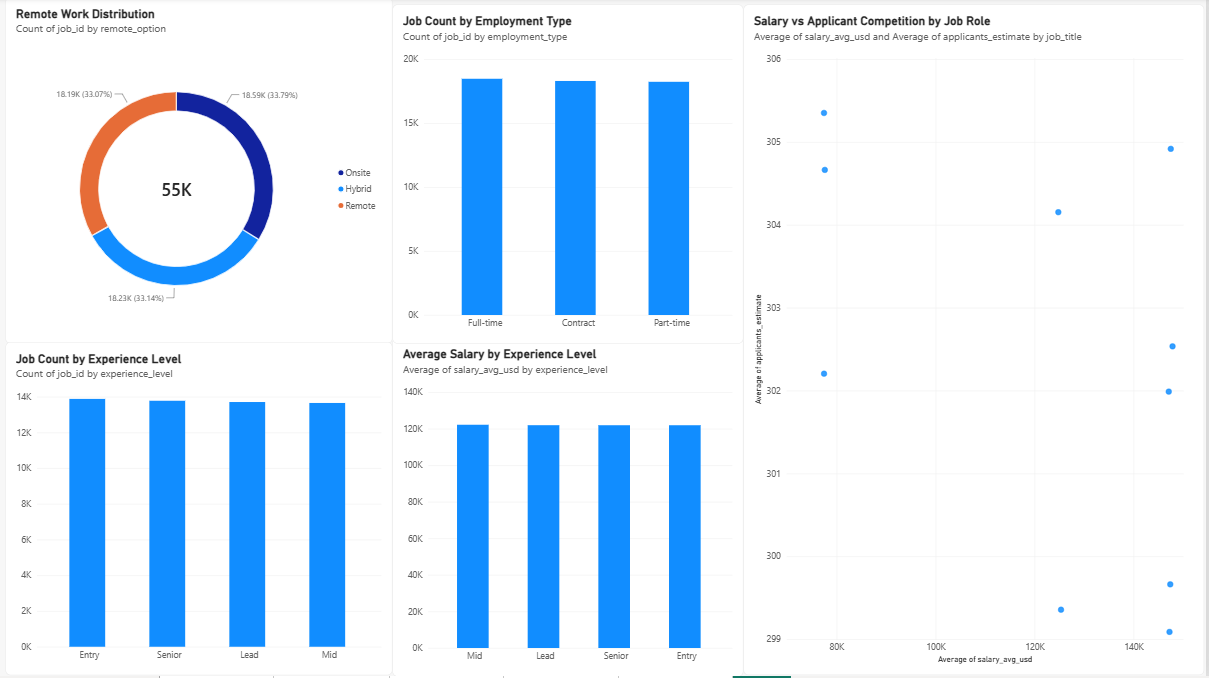

Layout of this report page (visuals, bound fields, positions):
{"tool":"powerbi","page":{"name":"Page 2","canvas":[1920,1080],"ordinal":1},"visuals":[{"type":"donutChart","title":"Remote Work Distribution","fields":{"Category":["job_postings_analysis.remote_option"],"Y":["CountNonNull(job_postings_analysis.job_id)"]},"box":[11.9,0,615.6,551.1],"z":0},{"type":"clusteredColumnChart","title":"Job Count by Experience Level","fields":{"Category":["job_postings_analysis.experience_level"],"Y":["CountNonNull(job_postings_analysis.job_id)"]},"box":[11.3,549.9,615.1,530.1],"z":1000},{"type":"clusteredColumnChart","title":"Average Salary by Experience Level","fields":{"Category":["job_postings_analysis.experience_level"],"Y":["Avg(job_postings_analysis.salary_avg_usd)"]},"box":[627.5,541.6,558.3,539.2],"z":2000},{"type":"clusteredColumnChart","title":"Job Count by Employment Type","fields":{"Category":["job_postings_analysis.employment_type"],"Y":["CountNonNull(job_postings_analysis.job_id)"]},"box":[627.5,11.9,558.3,539.2],"z":3000},{"type":"scatterChart","title":"Salary vs Applicant Competition by Job Role","fields":{"Category":["job_postings_analysis.job_title"],"X":["Avg(job_postings_analysis.salary_avg_usd)"],"Y":["Avg(job_postings_analysis.applicants_estimate)"]},"box":[1185.8,11.9,732.5,1066.5],"z":4000}]}

Visuals, with their boxes in screenshot pixels (x1, y1, x2, y2), scaled from the page's 1920x1080 canvas onto the 1209x678 screenshot:
"Remote Work Distribution" donutChart: {"x1": 7, "y1": 0, "x2": 395, "y2": 346}
"Job Count by Experience Level" clusteredColumnChart: {"x1": 7, "y1": 345, "x2": 394, "y2": 677}
"Average Salary by Experience Level" clusteredColumnChart: {"x1": 395, "y1": 340, "x2": 747, "y2": 677}
"Job Count by Employment Type" clusteredColumnChart: {"x1": 395, "y1": 7, "x2": 747, "y2": 346}
"Salary vs Applicant Competition by Job Role" scatterChart: {"x1": 747, "y1": 7, "x2": 1208, "y2": 677}
